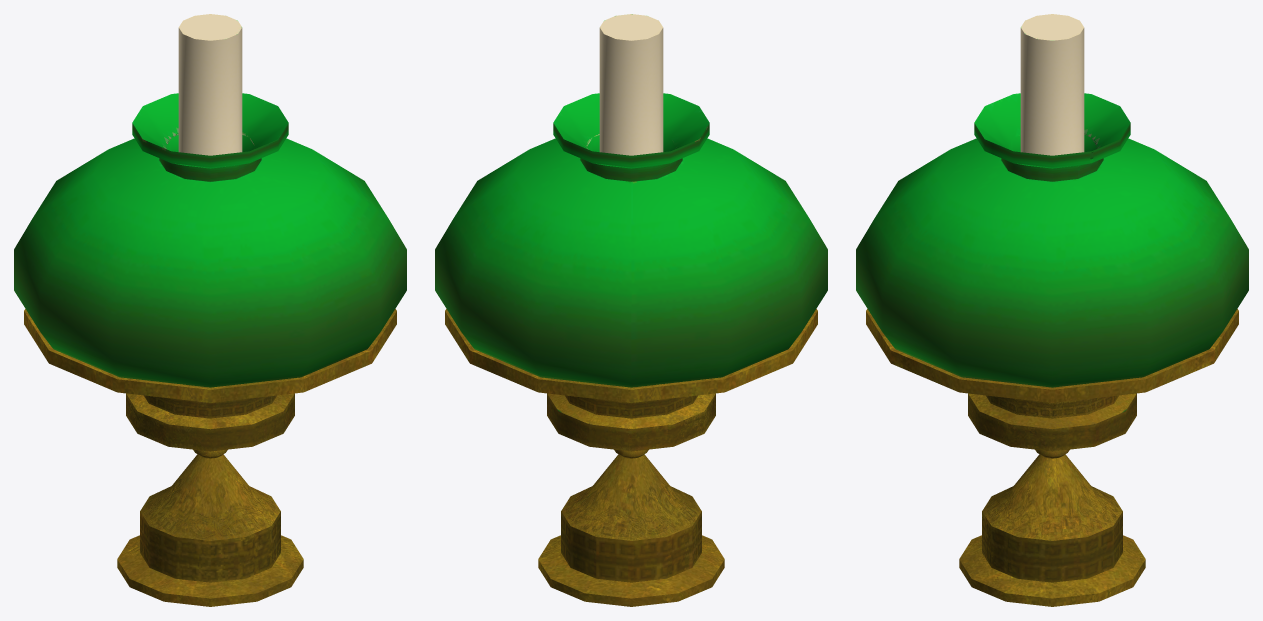
Rendered from gas_lamp_desk.DAE.
3 views of the same model, side by side, from view 1: azimuth 30°, elevation 25°; view 2: azimuth 150°, elevation 25°; view 3: azimuth 270°, elevation 25° (orthographic).
Parts seen in each view (by area): view 1: Cylinder001; view 2: Cylinder001; view 3: Cylinder001.
Part boxes in pixels (left/top/right/bottom): Cylinder001: left=14, top=14, right=406, bottom=606; Cylinder001: left=435, top=14, right=827, bottom=606; Cylinder001: left=856, top=14, right=1248, bottom=606.
Size of the model in its own units: 0.7935 by 1.2 by 0.7935.
